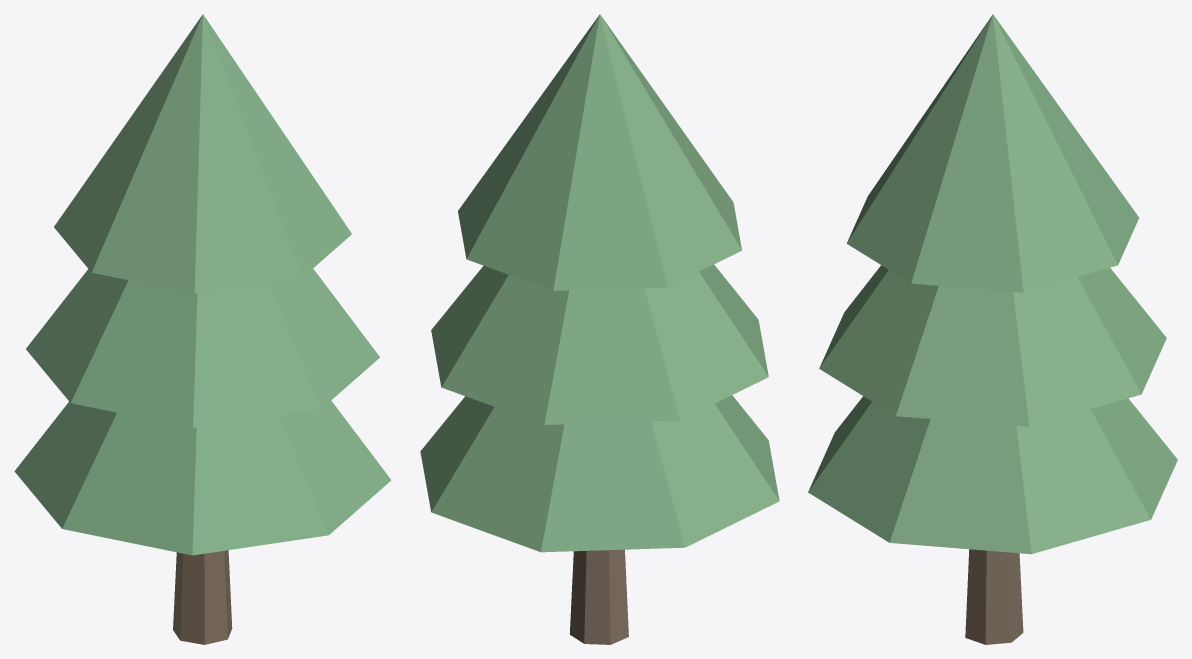
File: 침엽수_01.fbx
3 renders of one model, left to right at view 1: azimuth 30°, elevation 25°; view 2: azimuth 150°, elevation 25°; view 3: azimuth 270°, elevation 25°, orthographic.
Parts seen in each view (by area): view 1: 침엽수_01; view 2: 침엽수_01; view 3: 침엽수_01.
Boxes of the visible parts, box(x1,y1,x2,y2) form: 침엽수_01: box(14, 14, 391, 644); 침엽수_01: box(420, 14, 779, 644); 침엽수_01: box(808, 14, 1177, 644).
Size of the model in its own units: 4362 by 8047 by 4362.
